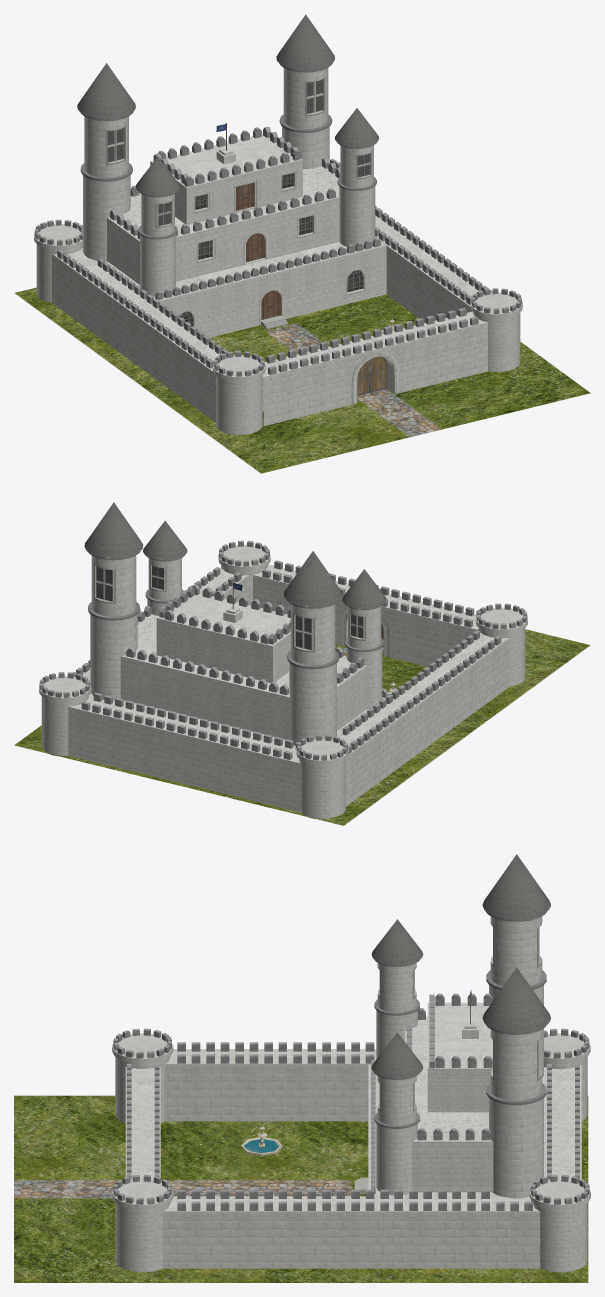
File: Castle.obj
3 views of the same model, one above another, from view 1: azimuth 30°, elevation 25°; view 2: azimuth 150°, elevation 25°; view 3: azimuth 270°, elevation 25° (orthographic). The views are drawn at different scales.
Parts seen in each view (by area): view 1: Castle_Exterior, Castle_Interior, Towers_Doors_and_Windows, Ground_and_Fountain; view 2: Castle_Exterior, Towers_Doors_and_Windows, Castle_Interior, Ground_and_Fountain; view 3: Castle_Exterior, Ground_and_Fountain, Towers_Doors_and_Windows, Castle_Interior.
Part boxes in pixels (x1,y1,x2,y2): Castle_Exterior: (34,159,522,434); Castle_Interior: (81,123,386,337); Towers_Doors_and_Windows: (77,14,387,395); Ground_and_Fountain: (14,287,590,473); Castle_Exterior: (39,540,527,818); Towers_Doors_and_Windows: (84,502,386,745); Castle_Interior: (89,581,387,746); Ground_and_Fountain: (14,629,590,825); Castle_Exterior: (112,1028,590,1272); Ground_and_Fountain: (14,1095,588,1282); Towers_Doors_and_Windows: (354,854,550,1198); Castle_Interior: (368,990,544,1196).
Bounding box in the file's own units: 58.11 × 40.26 × 75.6.
Materials: 4 (4 with a texture image).
